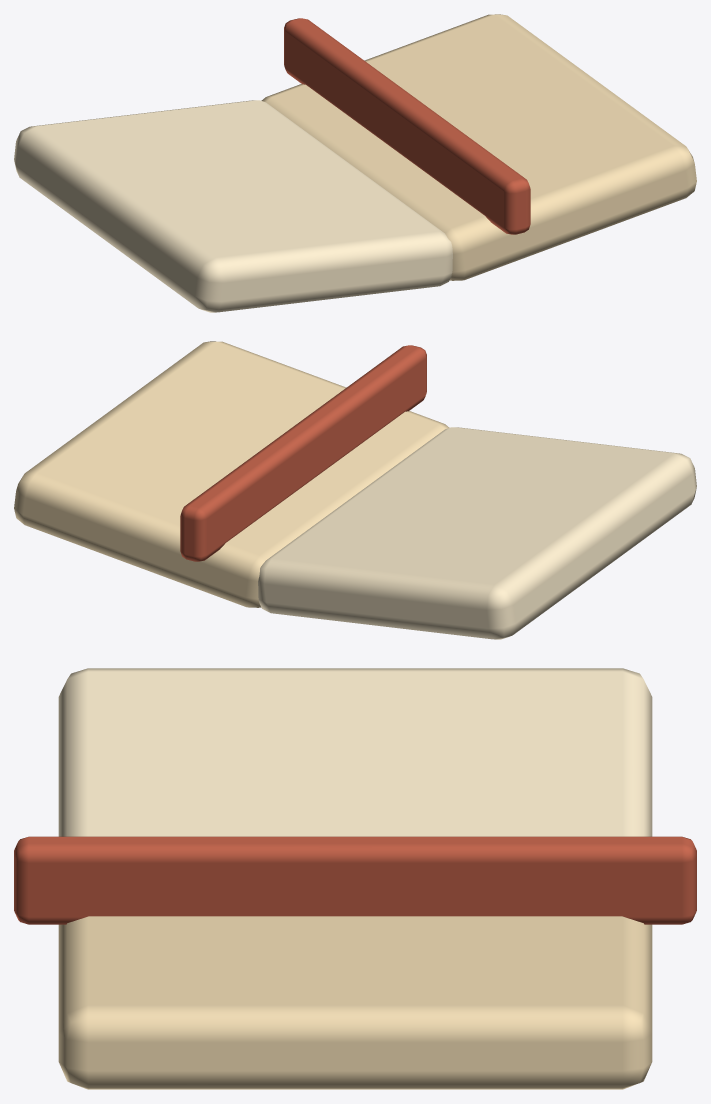
The model's file is treasure-library.glb.
The picture shows the model from 3 angles, top to bottom: view 1: azimuth 30°, elevation 25°; view 2: azimuth 150°, elevation 25°; view 3: azimuth 270°, elevation 25°; orthographic projection. The views are drawn at different scales.
Visible parts, largest first — view 1: collectible-library; view 2: collectible-library; view 3: collectible-library.
Boxes of the visible parts, x1,y1,x2,y2 form: collectible-library: (14, 14, 696, 312); collectible-library: (14, 341, 696, 639); collectible-library: (14, 668, 696, 1089).
Bounding box in the file's own units: 0.5802 × 0.1173 × 0.46.
